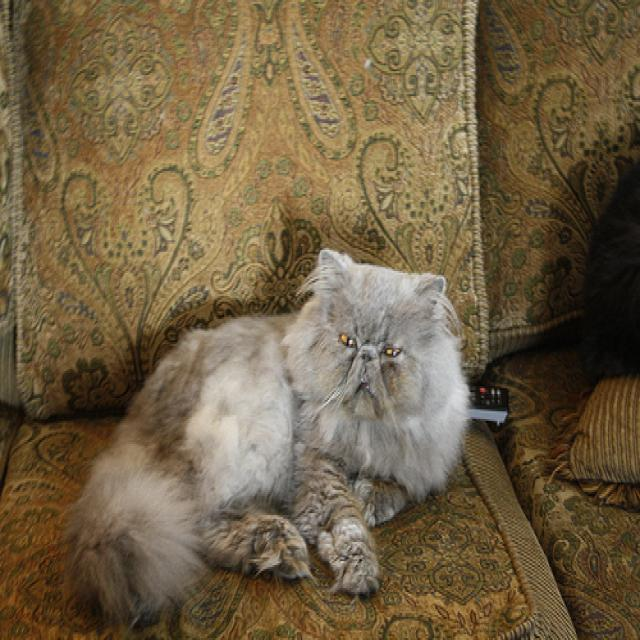Persian: (285, 245, 466, 453)
